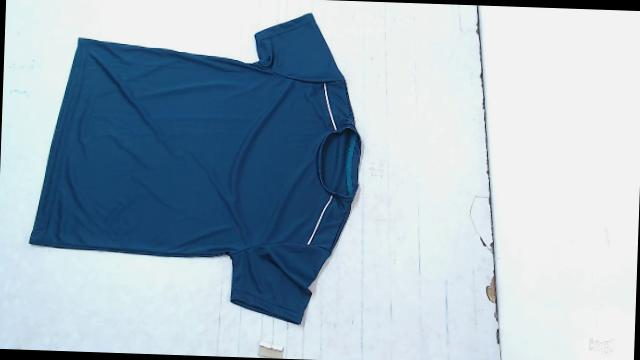new-garment: (30, 14, 361, 324)
